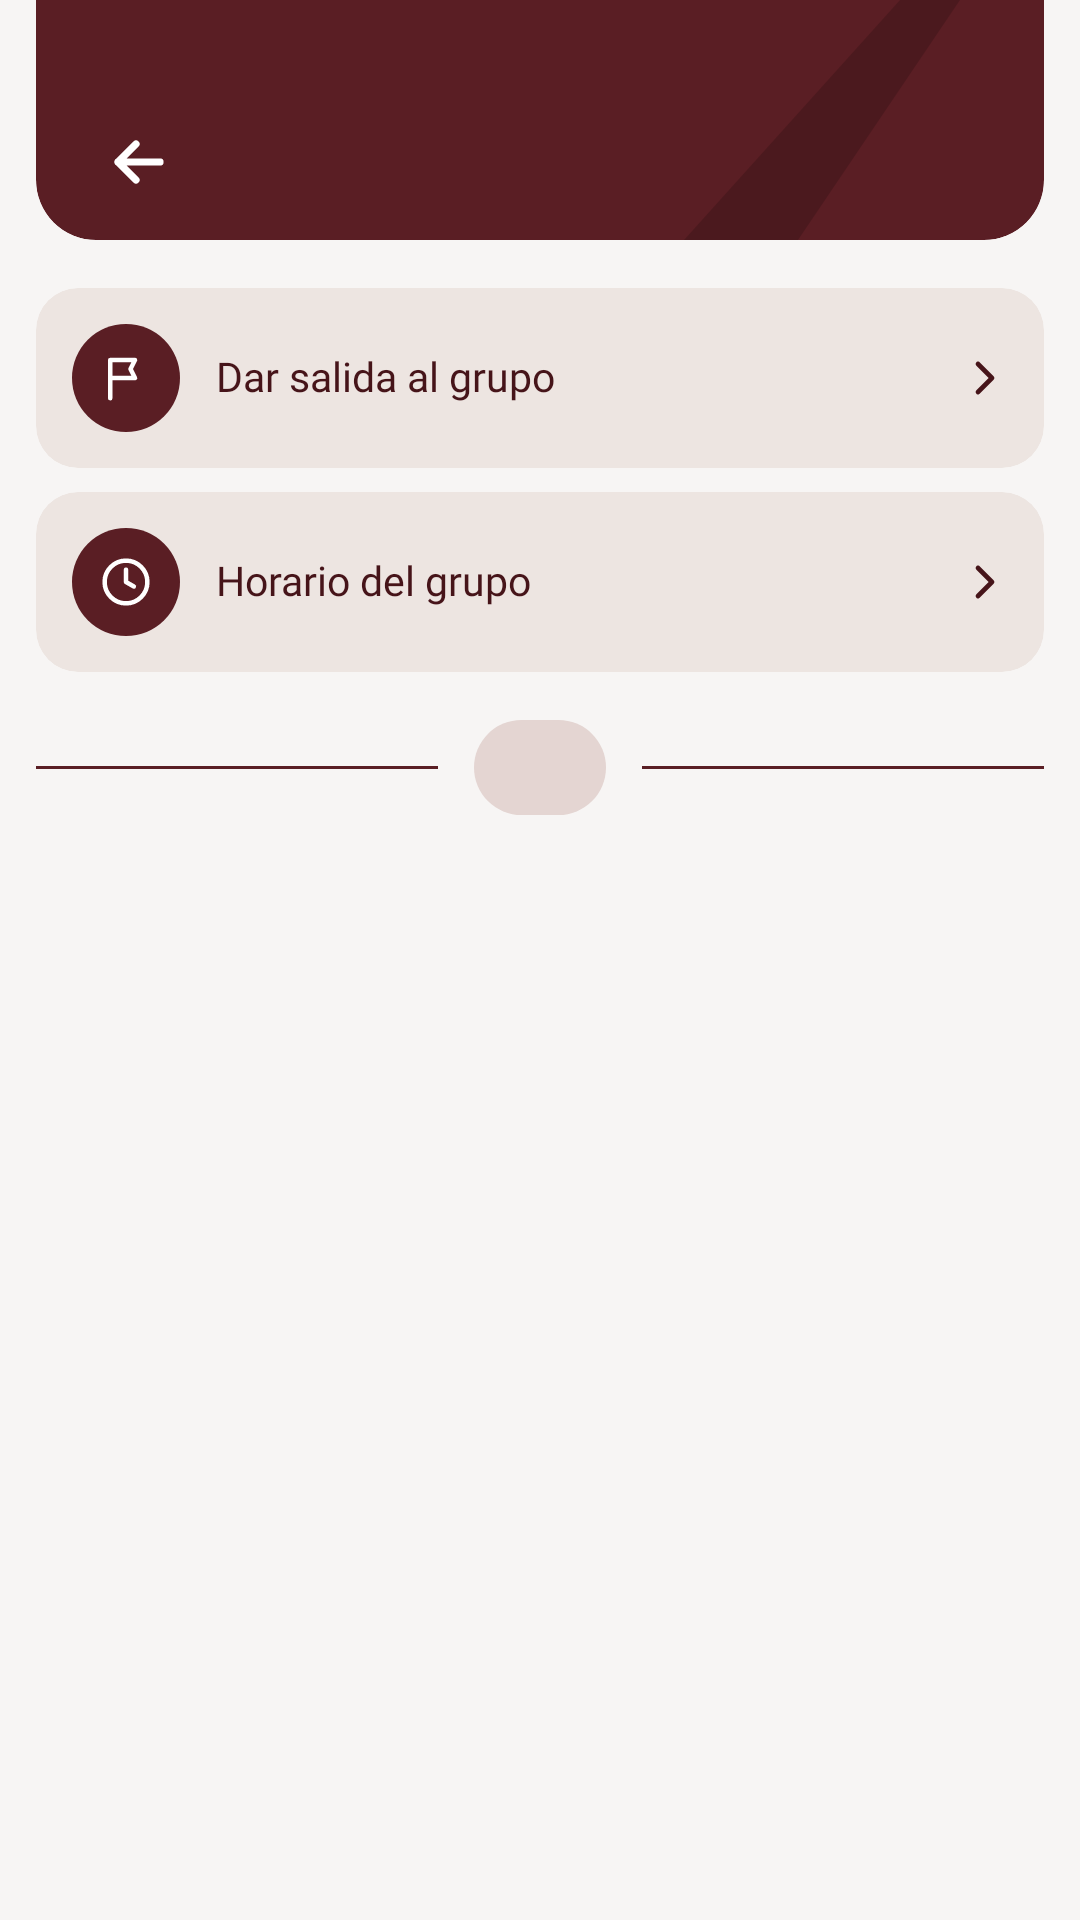

Locate icon controls on the screen. Image size 1080 x 1920, boxes as (x1=x1, y1=y1, x2=x2, y2=y2).
clock: (x1=102, y1=558, x2=150, y2=606)
flag: (x1=108, y1=357, x2=138, y2=401)
